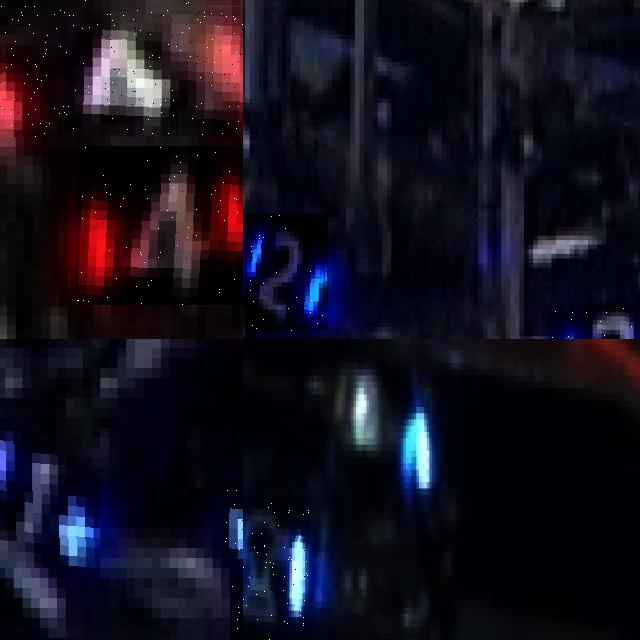B1: (0, 418, 100, 568)
B2: (245, 213, 328, 331), (546, 304, 640, 339)
Bs: (243, 500, 308, 640)
R4: (0, 0, 243, 137), (76, 146, 243, 306)
